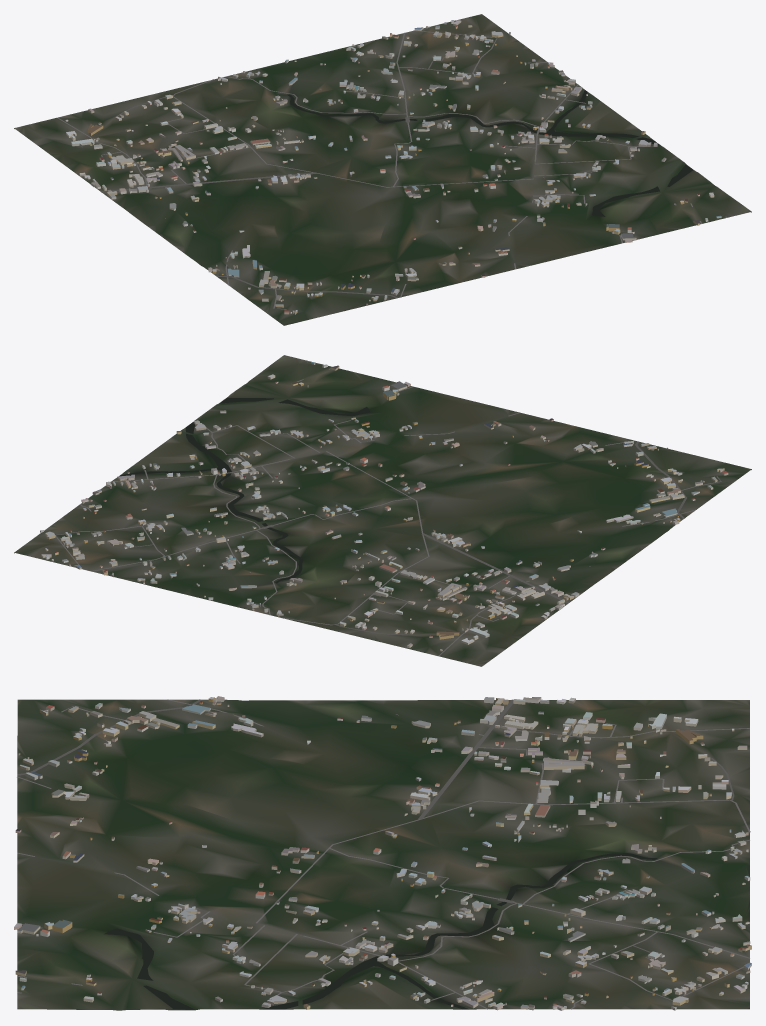
3 views of the same model, one above another, from view 1: azimuth 30°, elevation 25°; view 2: azimuth 150°, elevation 25°; view 3: azimuth 270°, elevation 25° (orthographic). The views are drawn at different scales.
Parts seen in each view (by area): view 1: ground, buildings, roads, water; view 2: ground, buildings, roads, water; view 3: ground, buildings, roads, water.
Boxes of the visible parts, box(x1,y1,x2,y2) form: ground: box(14, 14, 751, 325); buildings: box(65, 20, 721, 314); roads: box(57, 30, 726, 309); water: box(287, 90, 692, 216); ground: box(14, 355, 751, 666); buildings: box(40, 362, 728, 651); roads: box(55, 361, 721, 656); water: box(119, 398, 370, 583); ground: box(17, 699, 749, 1010); buildings: box(14, 696, 751, 1010); roads: box(17, 699, 750, 1009); water: box(104, 853, 657, 1009).
Bounding box in the file's own units: 1411 × 16.19 × 1411.
